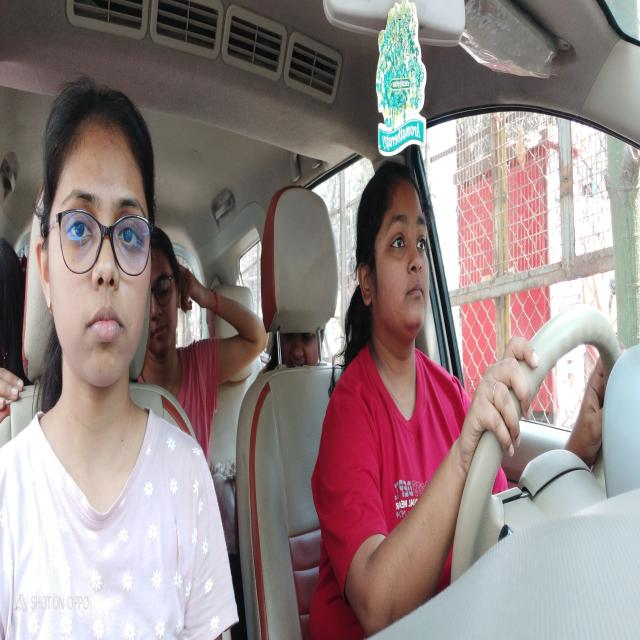person: (52, 88, 151, 386), (361, 184, 433, 340), (152, 232, 182, 348), (280, 327, 325, 368)
